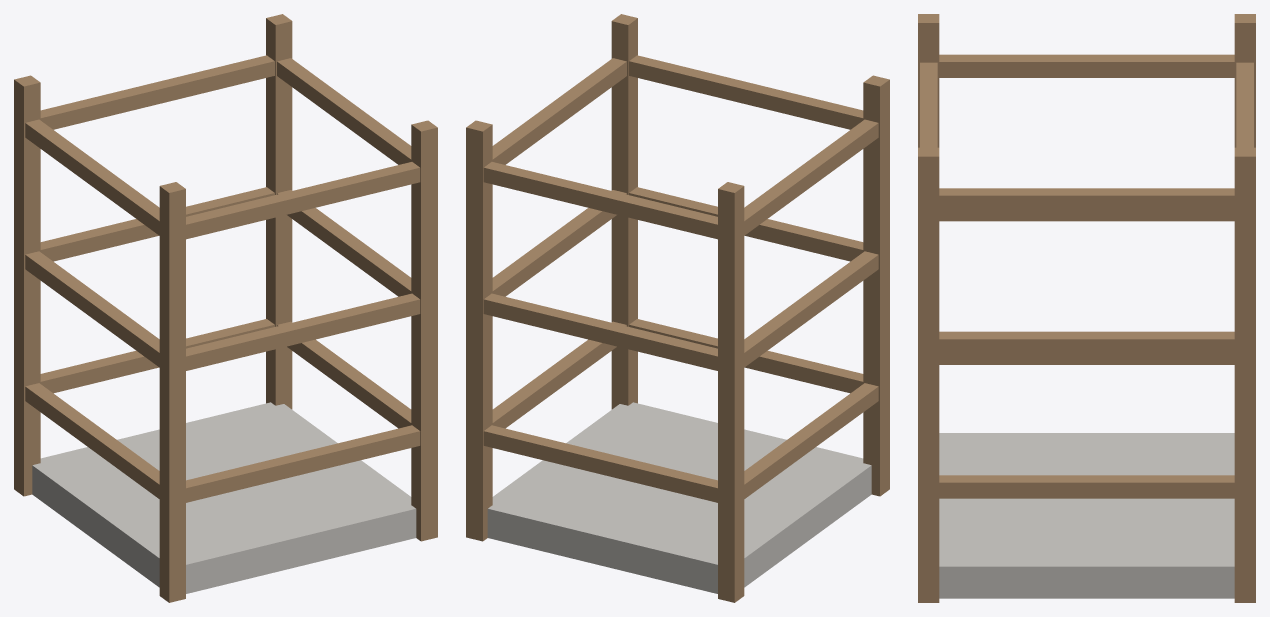
The model's file is scaffold.glb.
3 renders of one model, left to right at view 1: azimuth 30°, elevation 25°; view 2: azimuth 150°, elevation 25°; view 3: azimuth 270°, elevation 25°, orthographic. The views are drawn at different scales.
Visible parts, largest first — view 1: Scaffold; view 2: Scaffold; view 3: Scaffold.
Part boxes in pixels (x1,y1,x2,y2): Scaffold: [14, 14, 437, 602]; Scaffold: [466, 14, 889, 602]; Scaffold: [918, 14, 1255, 602].
Bounding box in the file's own units: 0.96 × 1.4 × 0.96.
